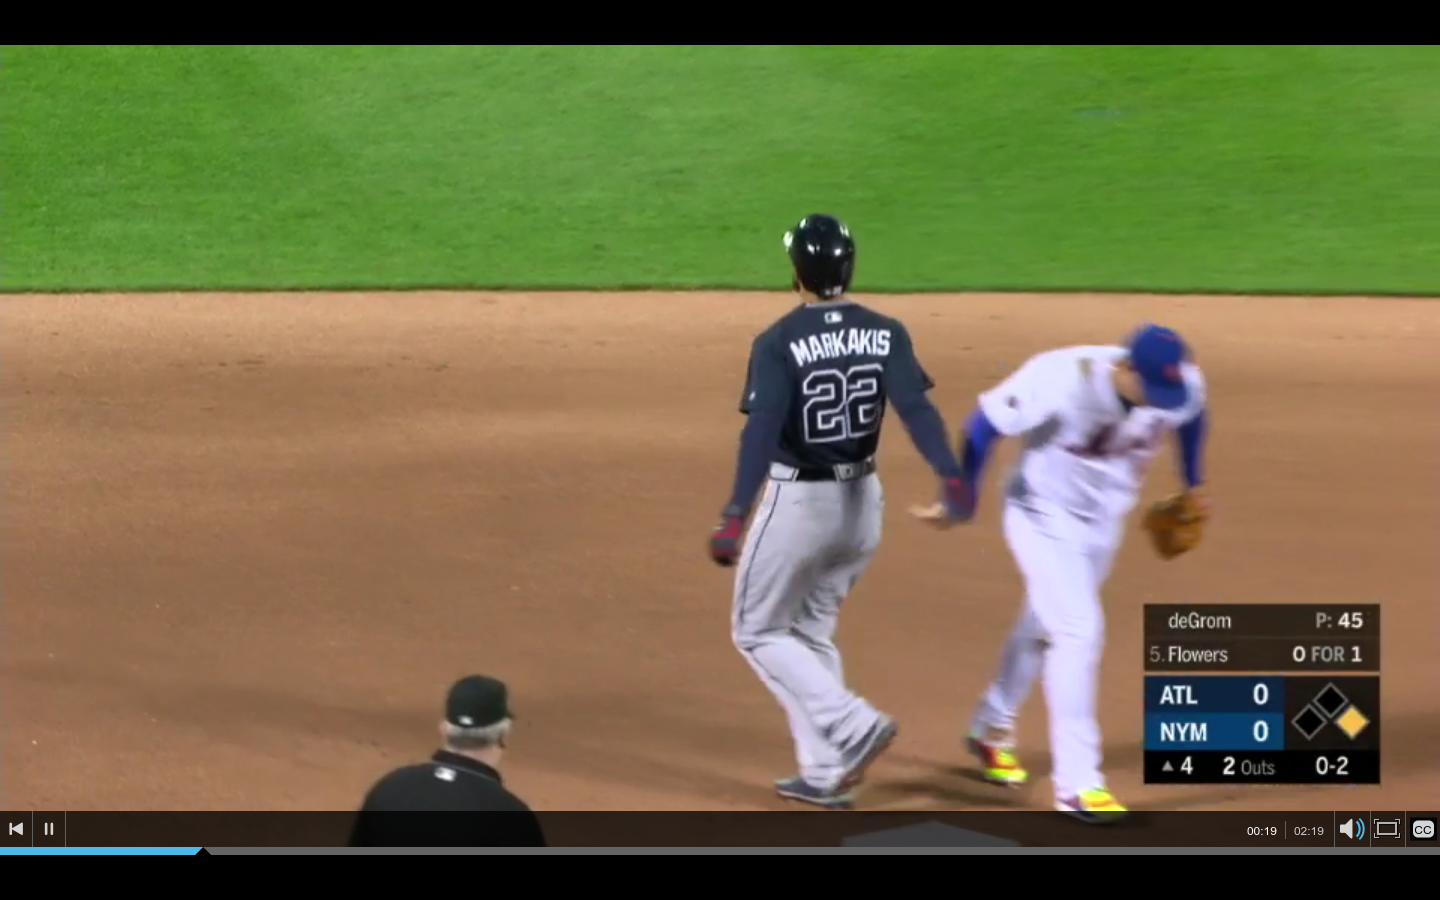baseball player: (699, 206, 964, 811), (913, 312, 1221, 811)
referee: (338, 671, 561, 845)
